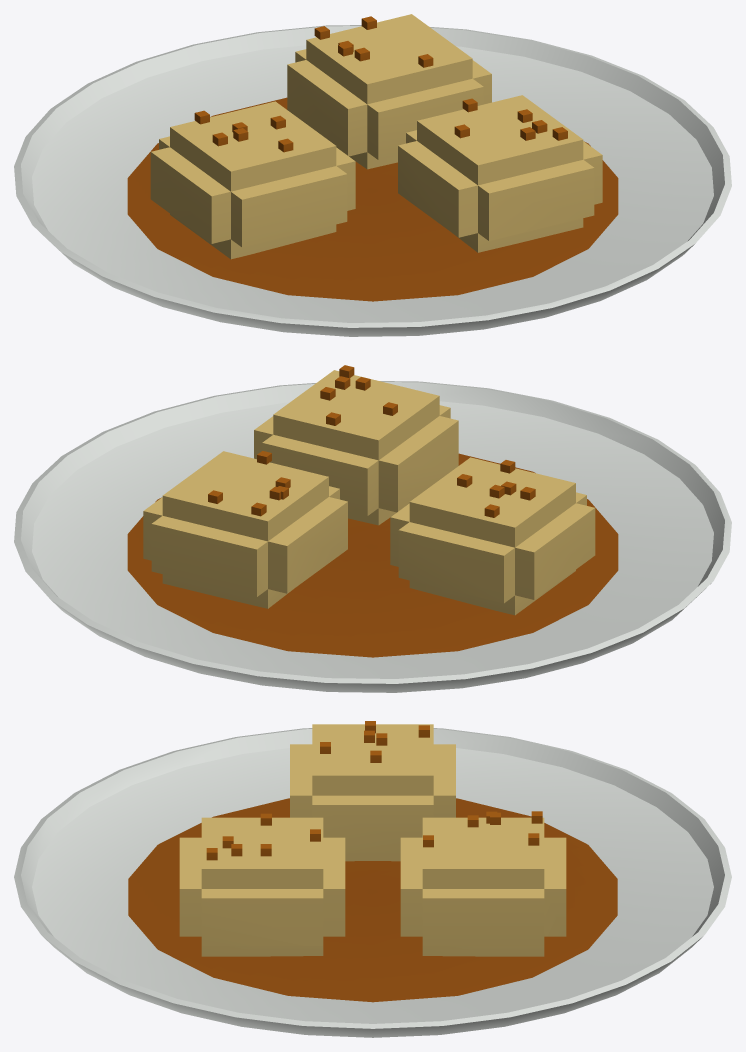
File: fs-dish-osmanthus-cake.glb
The picture shows the model from 3 angles, top to bottom: view 1: azimuth 30°, elevation 25°; view 2: azimuth 150°, elevation 25°; view 3: azimuth 270°, elevation 25°; orthographic projection.
Parts seen in each view (by area): view 1: plate__ceramic, food__food, sauce__sauce; view 2: plate__ceramic, food__food, sauce__sauce; view 3: plate__ceramic, food__food, sauce__sauce.
Boxes of the visible parts, x1,y1,x2,y2 form: plate__ceramic: (14, 25, 731, 336); food__food: (150, 14, 602, 259); sauce__sauce: (127, 97, 618, 301); plate__ceramic: (14, 381, 731, 692); food__food: (143, 365, 595, 615); sauce__sauce: (127, 453, 618, 657); plate__ceramic: (14, 728, 731, 1037); food__food: (179, 721, 566, 956); sauce__sauce: (128, 798, 617, 1002).
Bounding box in the file's own units: 0.26 × 0.0515 × 0.26.
